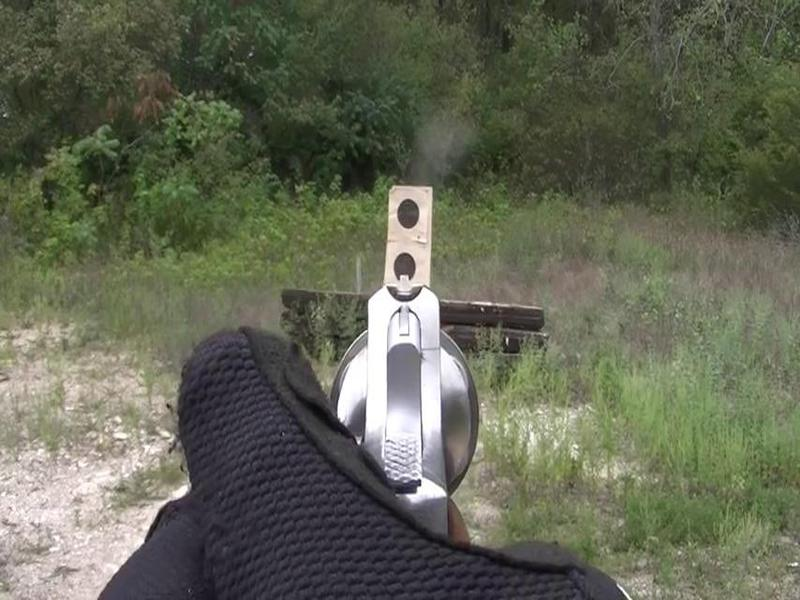Revolver: (318, 264, 512, 535)
